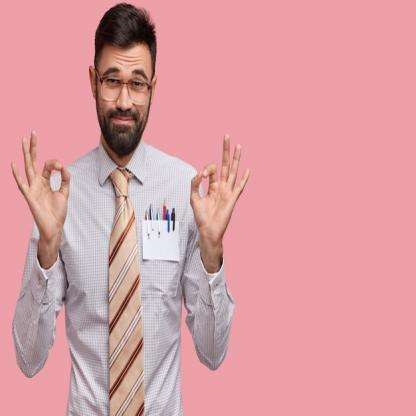ok: (8, 126, 72, 242), (188, 130, 252, 246)
